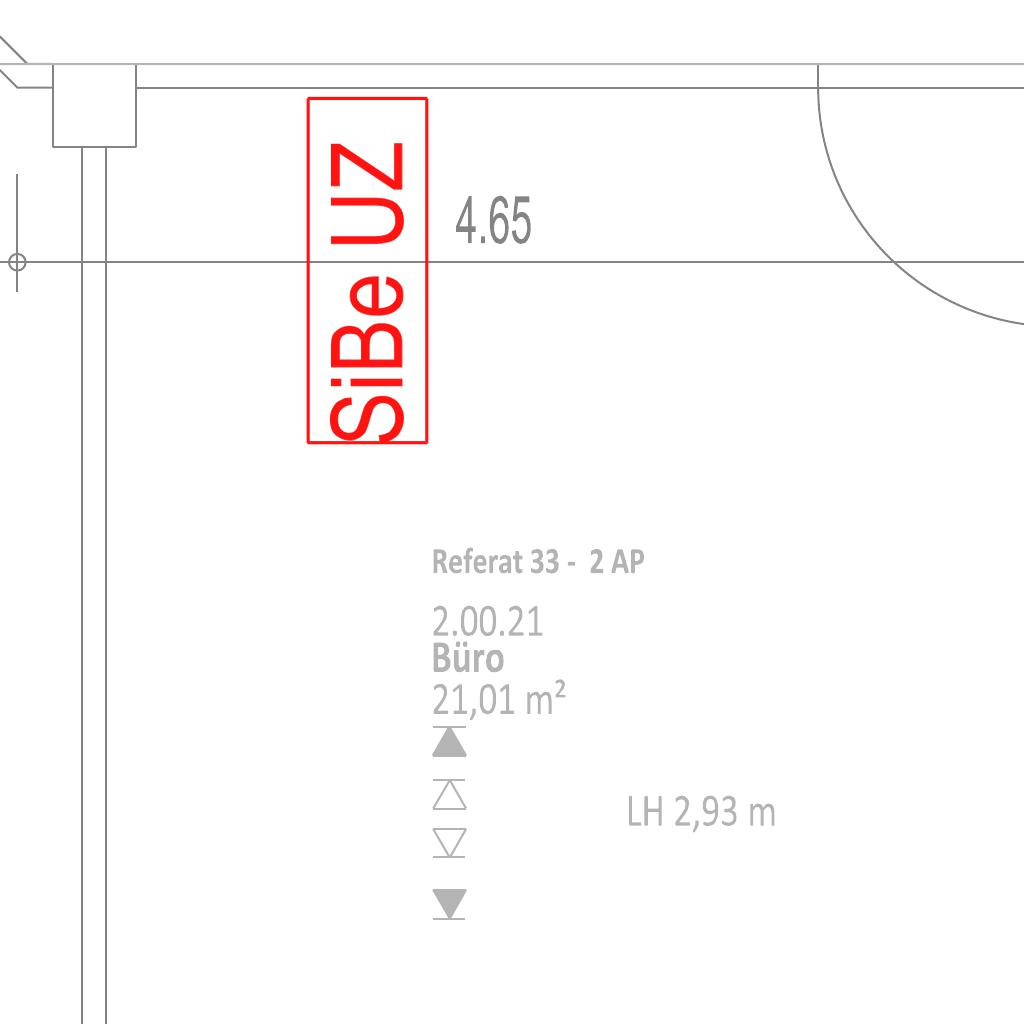Zentrale_Sicherheitsbeleuchtung: (303, 91, 433, 448)
